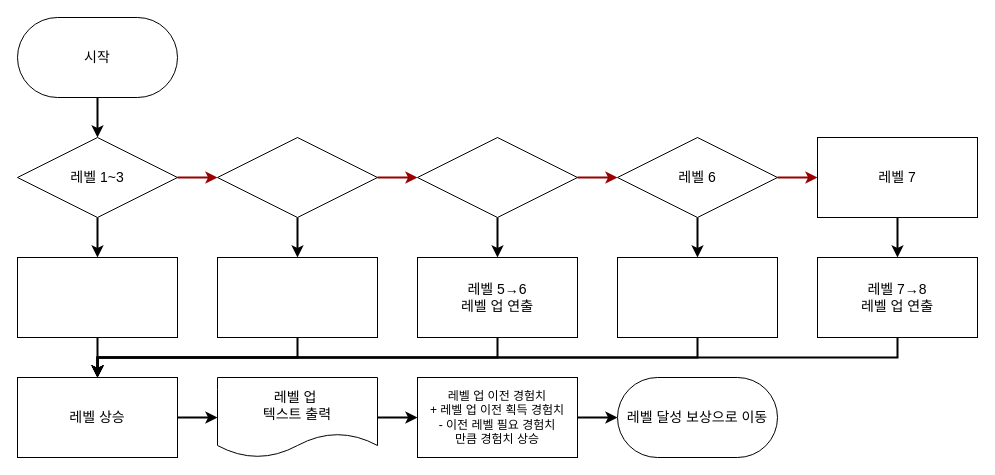
This 995x475 diagram has some shape labels left out. Here are the shapes that lost their labels. From the top down, the centre of each, then its label:
At (x=297, y=177): "레벨 4".
At (x=497, y=177): "레벨 5".
At (x=97, y=297): "레벨 1→2, 레벨 2→3, 레벨 3→4 레벨 업 연출".
At (x=297, y=297): "레벨 4→5 레벨 업 연출".
At (x=697, y=297): "레벨 6→7 레벨 업 연출".
